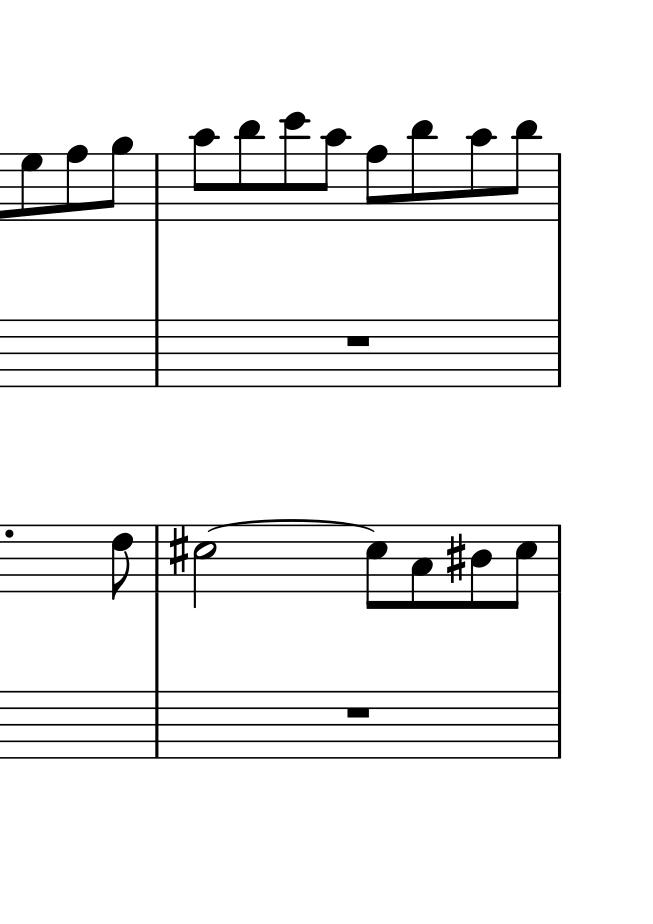2_5: (193, 522, 219, 611)
8_10: (188, 128, 221, 222), (320, 128, 351, 223), (466, 127, 496, 223)
8_11: (511, 119, 541, 223), (235, 120, 263, 223), (409, 119, 435, 223)
8_12: (280, 110, 309, 224)
8_3: (410, 522, 434, 614)
8_4: (469, 522, 496, 614)
8_5: (507, 521, 538, 611), (362, 524, 388, 613)
8_6: (111, 523, 134, 603)
8_7: (19, 151, 43, 223)
8_8: (64, 144, 91, 222), (365, 144, 390, 225)
8_9: (105, 134, 134, 223)
Rests1: (338, 331, 375, 352), (338, 700, 374, 721)
Sharp: (446, 533, 467, 582), (168, 526, 189, 574)
Single_barline: (551, 316, 568, 389), (150, 689, 166, 761), (148, 524, 164, 593), (150, 152, 165, 223), (551, 689, 565, 763), (551, 524, 565, 595), (151, 319, 163, 390), (553, 151, 565, 221)
Slur: (203, 517, 376, 533)
dot: (2, 525, 17, 539)
